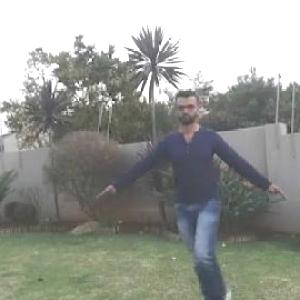land: (130, 101, 268, 270)
